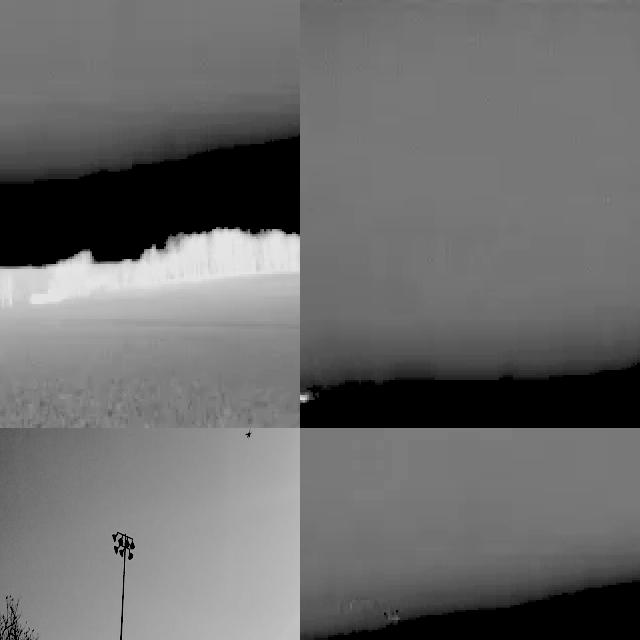0: (382, 608, 412, 638)
1: (300, 383, 318, 416)
drone: (241, 428, 257, 442)
